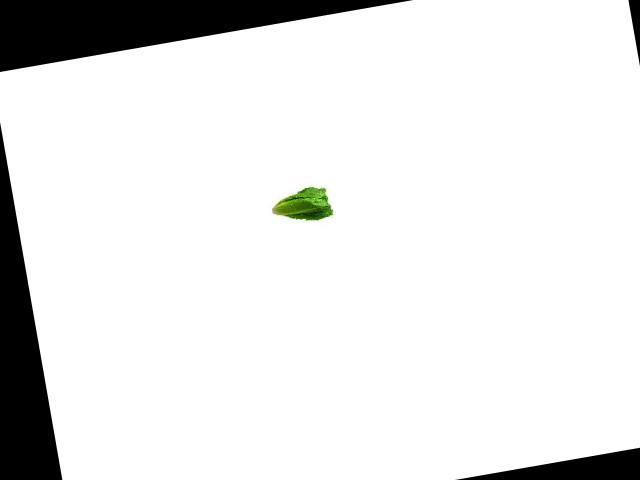lettuce: (266, 178, 337, 232)
